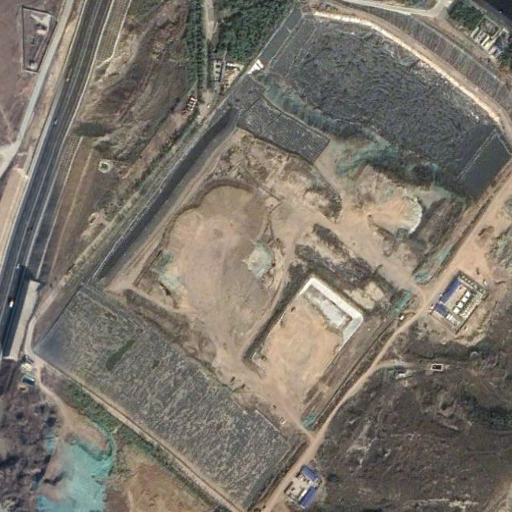lf: (29, 9, 509, 512)
